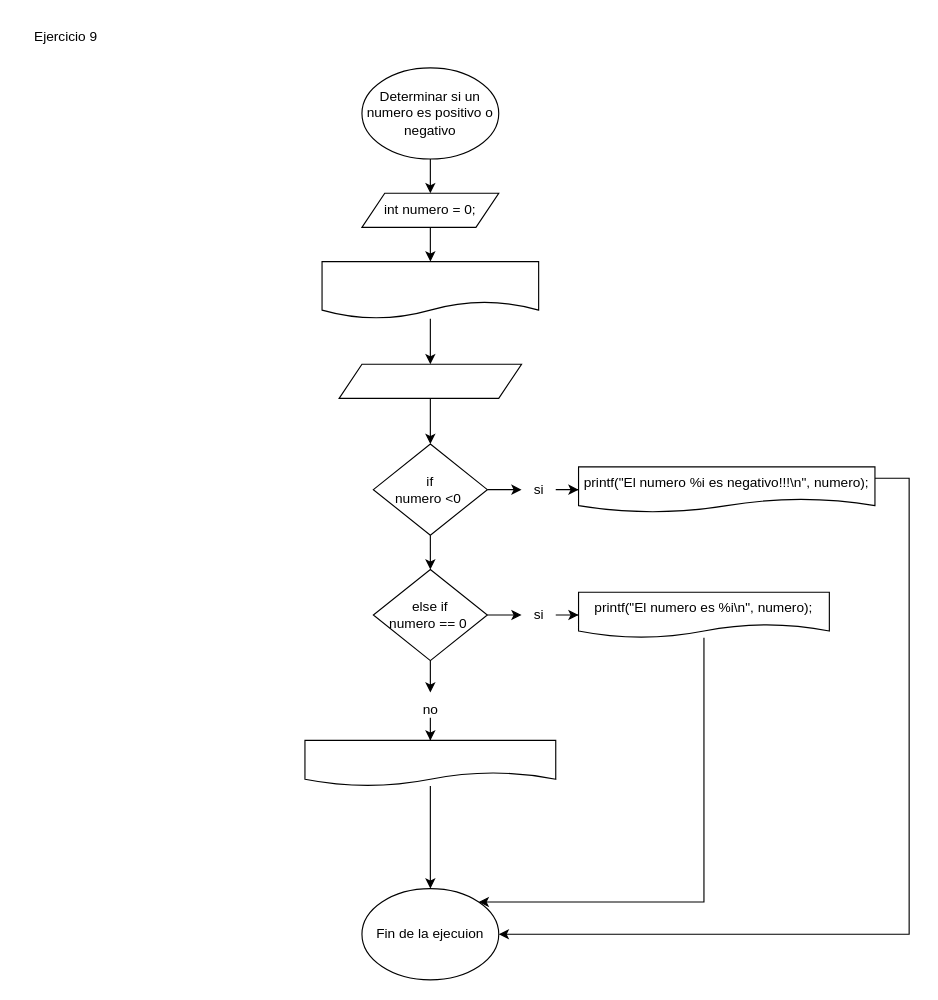
This 938x1000 diagram has some shape labels left out. The shapes that lost their labels are listed below. From the top down, each one's centre as x and y in pixels, then its label:
(x=430, y=289): printf("Ingrese el numero");
(x=430, y=380): scanf("%i",&numero);
(x=430, y=762): printf("El numero %i es positivo!!!\n", numero);
